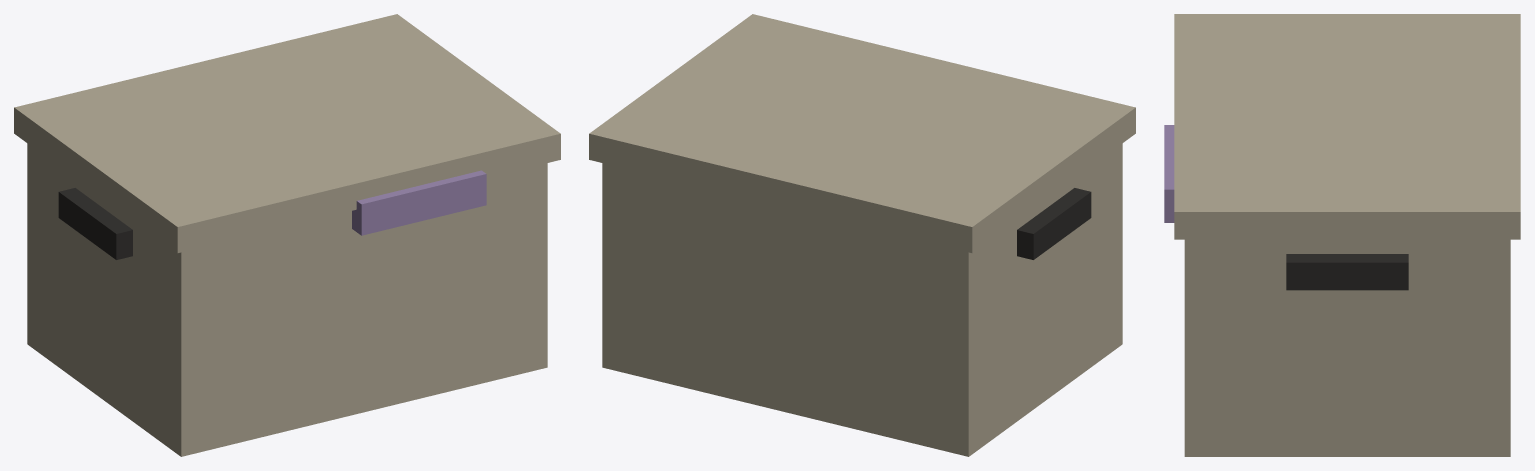
File: storage-bin.glb
3 views of the same model, side by side, from view 1: azimuth 30°, elevation 25°; view 2: azimuth 150°, elevation 25°; view 3: azimuth 270°, elevation 25° (orthographic). The views are drawn at different scales.
Visible parts, largest first — view 1: plastic-light, accent-lilac, plastic-dark; view 2: plastic-light, plastic-dark; view 3: plastic-light, plastic-dark, accent-lilac.
Part boxes in pixels (x1=…): plastic-light: x1=14, y1=14, x2=560, y2=456; accent-lilac: x1=352, y1=170, x2=486, y2=235; plastic-dark: x1=58, y1=188, x2=132, y2=259; plastic-light: x1=589, y1=14, x2=1135, y2=456; plastic-dark: x1=1017, y1=188, x2=1091, y2=259; plastic-light: x1=1174, y1=14, x2=1520, y2=456; plastic-dark: x1=1286, y1=254, x2=1408, y2=290; accent-lilac: x1=1164, y1=125, x2=1174, y2=222.
Bounding box in the file's own units: 0.48 × 0.27 × 0.35.
